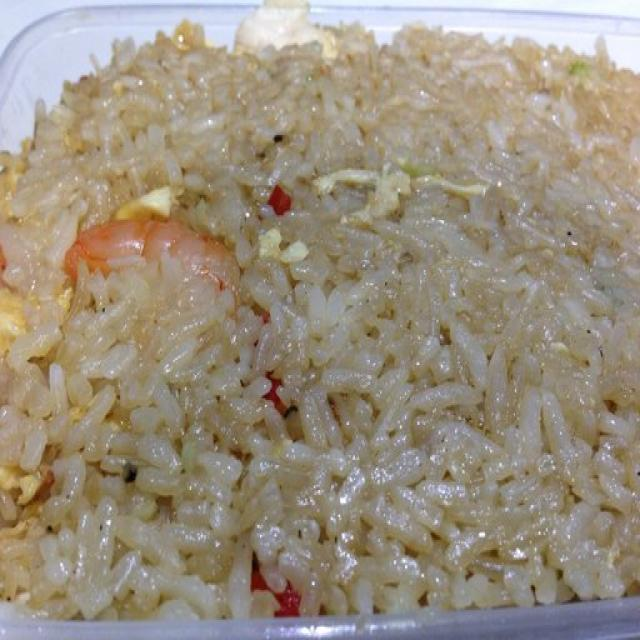rice: (0, 13, 640, 620)
